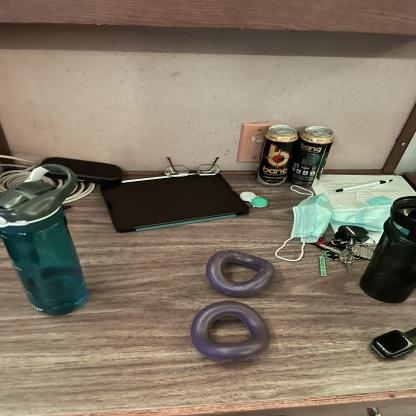ring: (189, 300, 271, 362), (205, 249, 274, 300)
